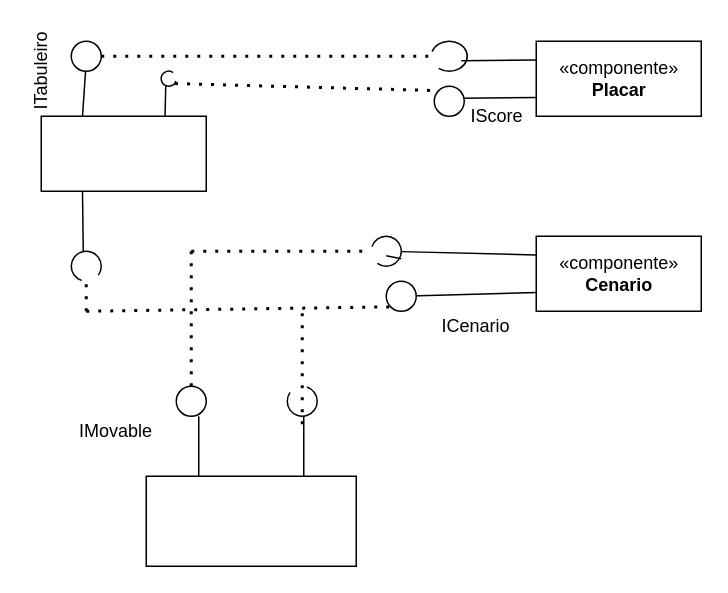
Some shapes in this 728 by 593 pixel diagram are drawn without their labels. Here are the shapes that lost their labels. From the top down, the centre of each, then its label:
At point (123, 153): "«componente» Tabuleiro".
At point (250, 520): "«componente» Peças com movimento".
